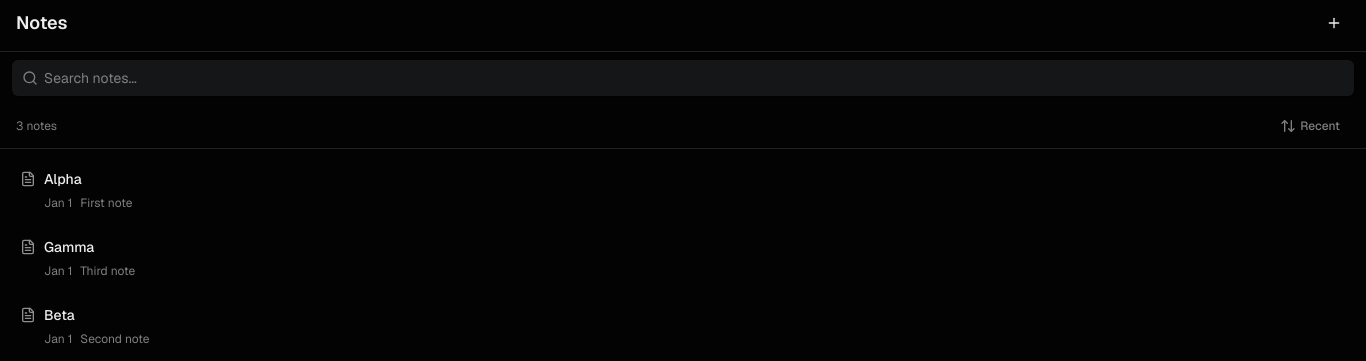
Test: NotesSidebar › shows "No notes found" when search has no matches
Type "zzz" into the field with placeholder "Search notes...". click: (683, 78)
box: [12,60,1354,96]
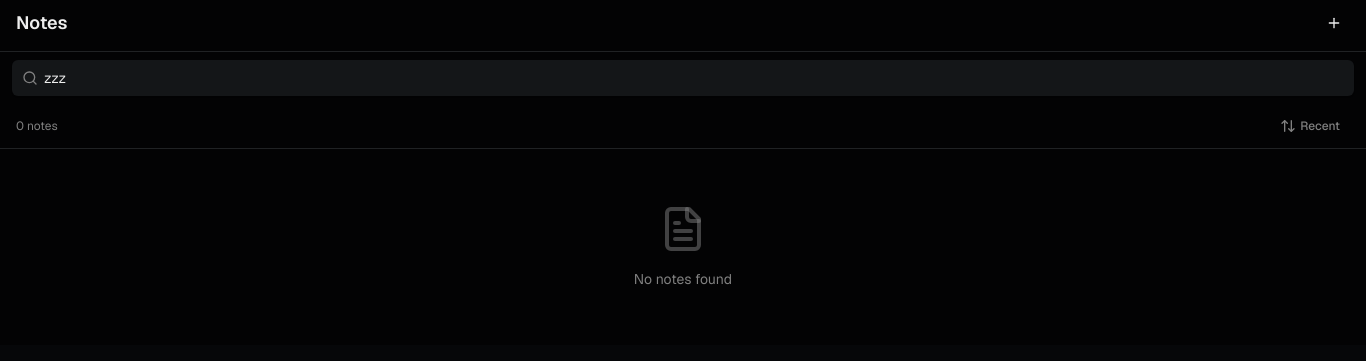
Now the text "No notes found" is shown, box [634,269,732,289]
